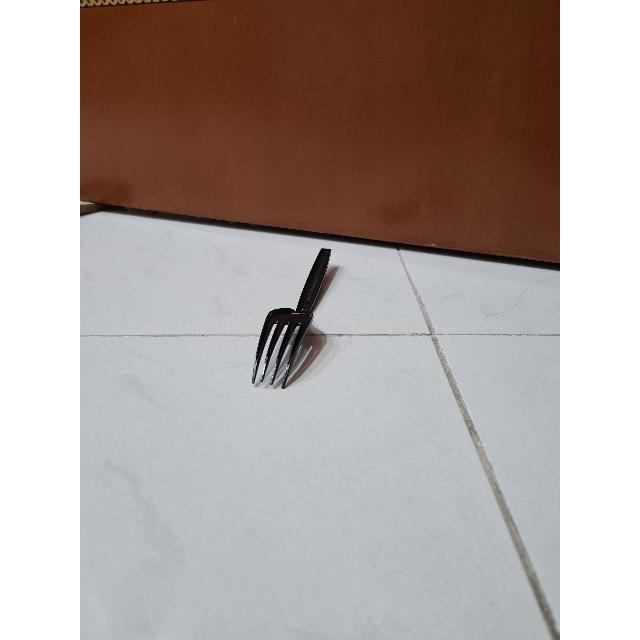Plastico descartable: (252, 249, 329, 388)
